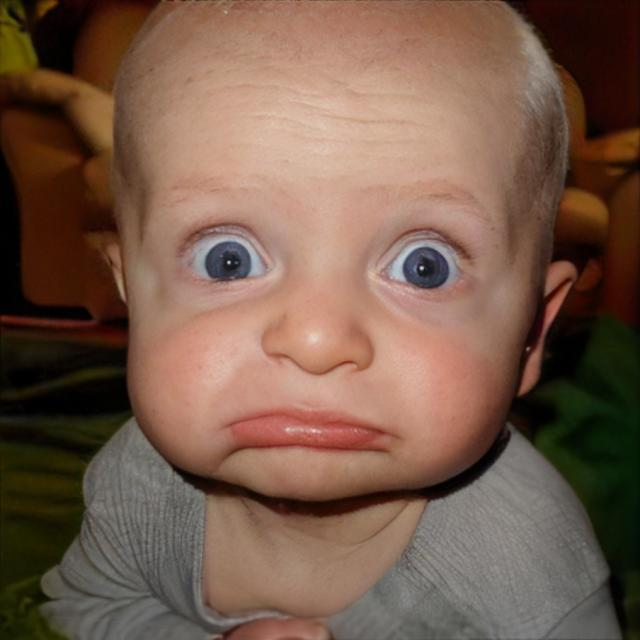Fear: (124, 38, 530, 544)
